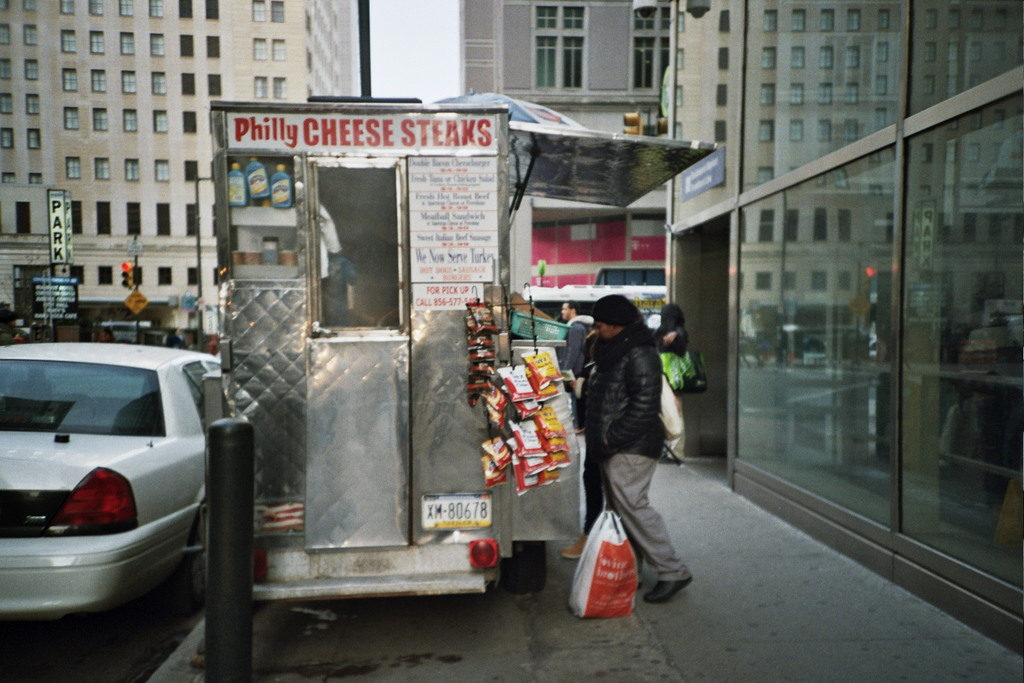Car: (3, 338, 233, 652)
